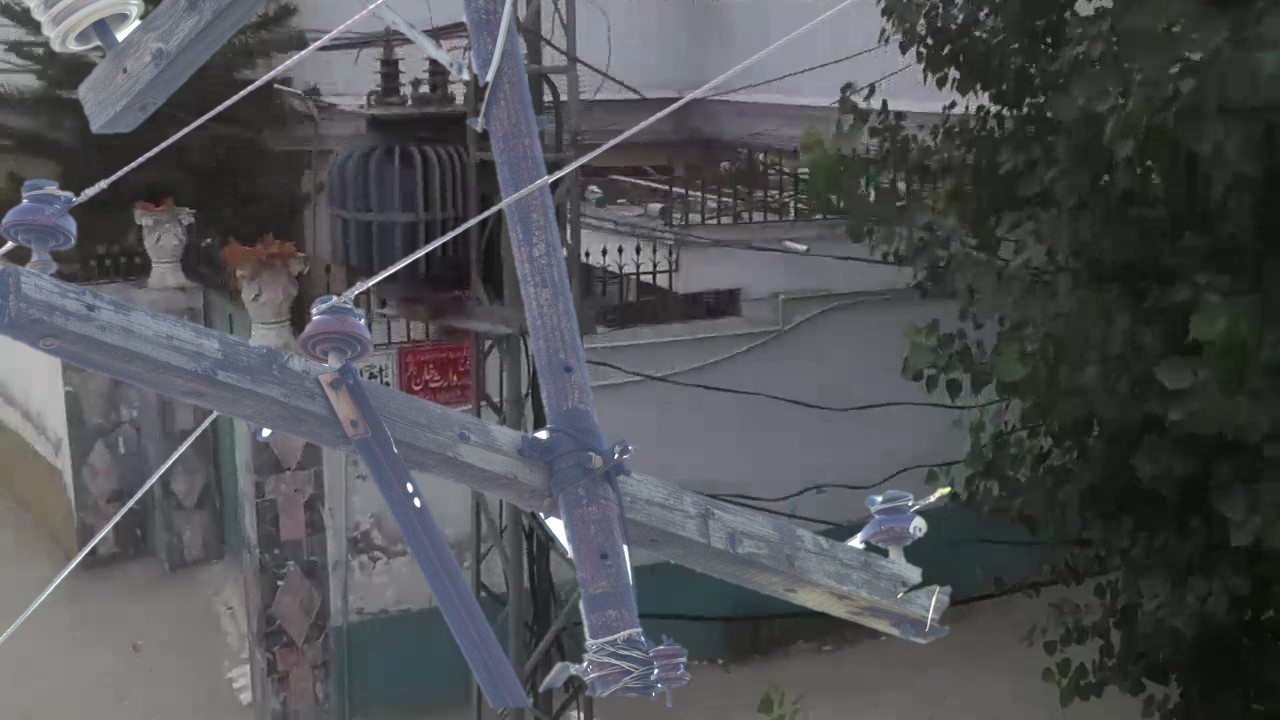defect_pin: (855, 480, 938, 553)
insulator_pin: (3, 167, 86, 267), (301, 290, 373, 368)
